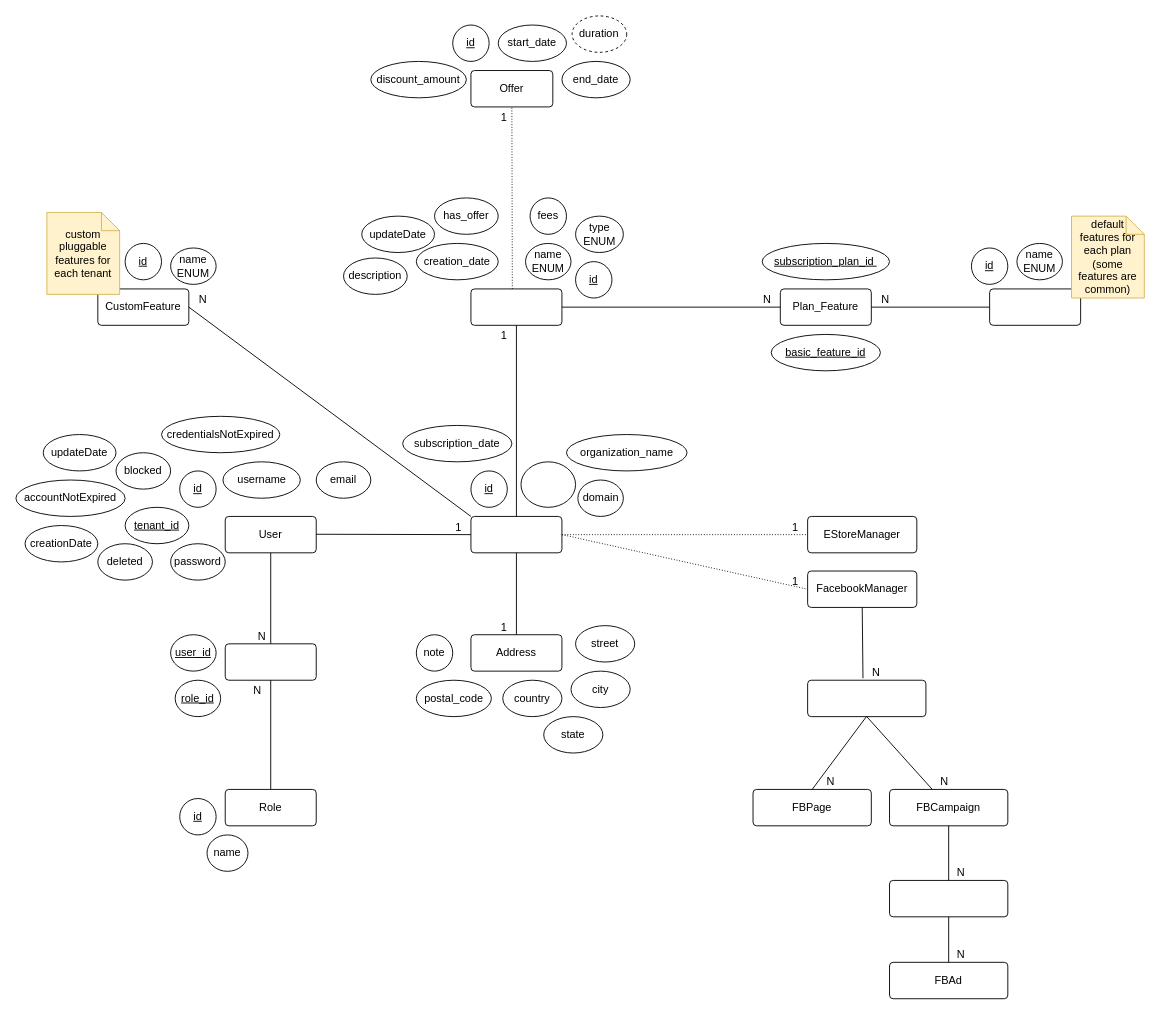
Some shapes in this 1160 by 1015 pixel diagram are drawn without their labels. Each missing label, with the centre of its shape:
BasicFeature: the point at 1035,306
FBAdAccount: the point at 866,698
FBAdSet: the point at 948,898
logo_url: the point at 548,484
SubscriptionPlan: the point at 516,306
Tenant: the point at 516,534
User_Role: the point at 270,661
